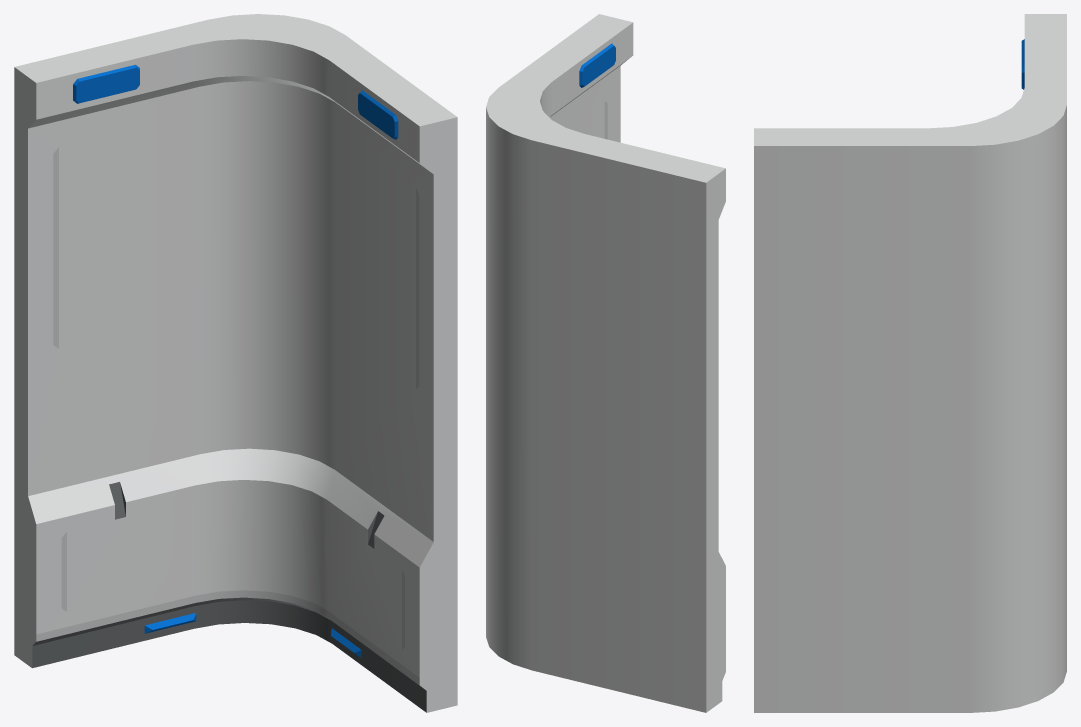
Rendered from Wall_type_A_068.fbx.
3 views of the same model, side by side, from view 1: azimuth 30°, elevation 25°; view 2: azimuth 150°, elevation 25°; view 3: azimuth 270°, elevation 25° (orthographic). The views are drawn at different scales.
Parts seen in each view (by area): view 1: Wall_type_A_068; view 2: Wall_type_A_068; view 3: Wall_type_A_068.
Part boxes in pixels (x1,y1,x2,y2): Wall_type_A_068: [14, 14, 457, 712]; Wall_type_A_068: [486, 14, 725, 712]; Wall_type_A_068: [754, 14, 1066, 712].
Bounding box in the file's own units: 200 × 200 × 400.
